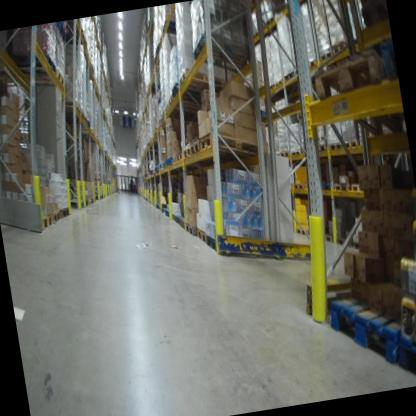pallet: (310, 49, 406, 144), (323, 275, 409, 374), (188, 24, 257, 80), (198, 126, 259, 166), (176, 61, 229, 97), (189, 132, 241, 168), (17, 64, 68, 96), (376, 30, 399, 98), (7, 47, 56, 78), (390, 329, 416, 384), (169, 78, 207, 111), (167, 87, 206, 118), (280, 66, 310, 96), (291, 177, 334, 194), (204, 230, 231, 256), (332, 230, 353, 250), (160, 16, 178, 38), (330, 38, 349, 57), (40, 209, 55, 231), (340, 132, 359, 149), (51, 22, 67, 42), (322, 230, 339, 247), (62, 98, 81, 113), (333, 180, 351, 195), (317, 48, 334, 63), (195, 224, 207, 244), (349, 181, 366, 195), (327, 138, 343, 152), (271, 76, 286, 90), (163, 98, 174, 117), (181, 141, 192, 160), (59, 204, 72, 220), (184, 221, 197, 236), (277, 146, 293, 158), (264, 13, 277, 27), (289, 145, 303, 157), (295, 226, 308, 238), (51, 207, 62, 221), (177, 216, 188, 229), (176, 149, 185, 162), (170, 153, 178, 167), (167, 155, 175, 167), (174, 214, 181, 225), (295, 0, 307, 5), (171, 214, 177, 223)
